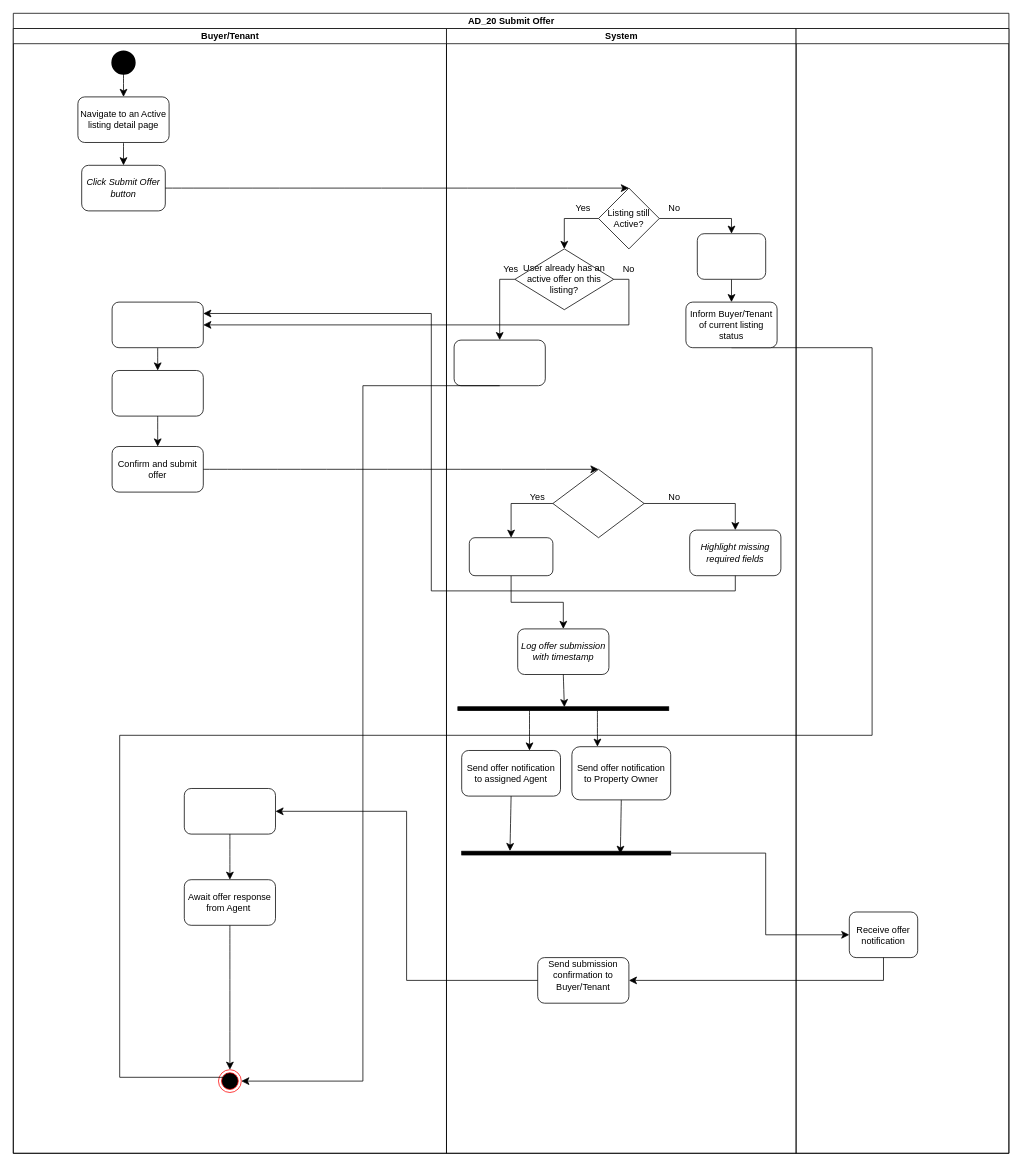
Image size: 1022x1167. Some labels were removed from this diagram. Each missing label, with the box of its shape:
Agent/Property Owner: (795, 28, 1009, 1153)
Create offer with Pending status: (469, 537, 553, 576)
Display error: active offer already exists on this listing: (453, 339, 545, 386)
Display error: listing is no longer Active: (697, 233, 766, 279)
Enter optional message to Agent: (111, 370, 203, 416)
Enter proposed price: (111, 301, 203, 348)
Form data valid?: (552, 469, 644, 538)
Receive submission confirmation: (184, 788, 276, 834)
